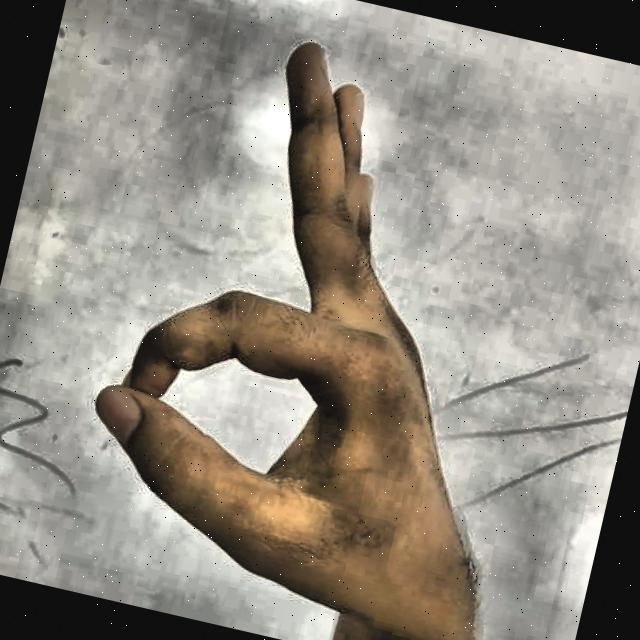Ca: (38, 0, 603, 640)
